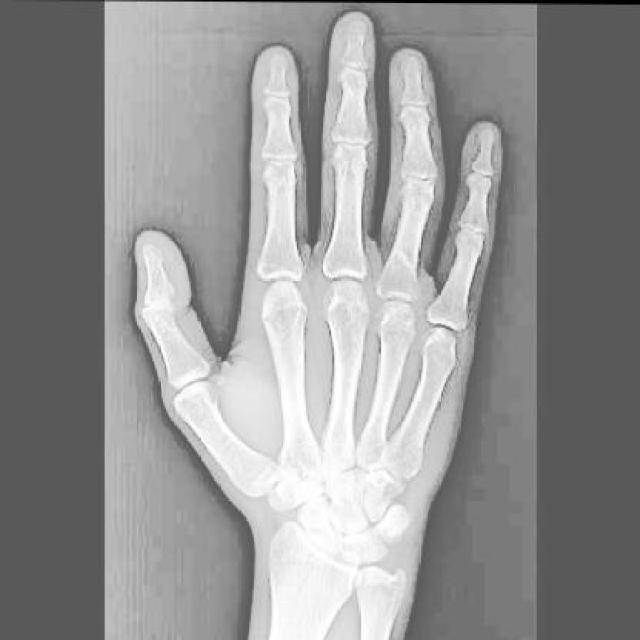Fracture: (140, 280, 176, 324)
